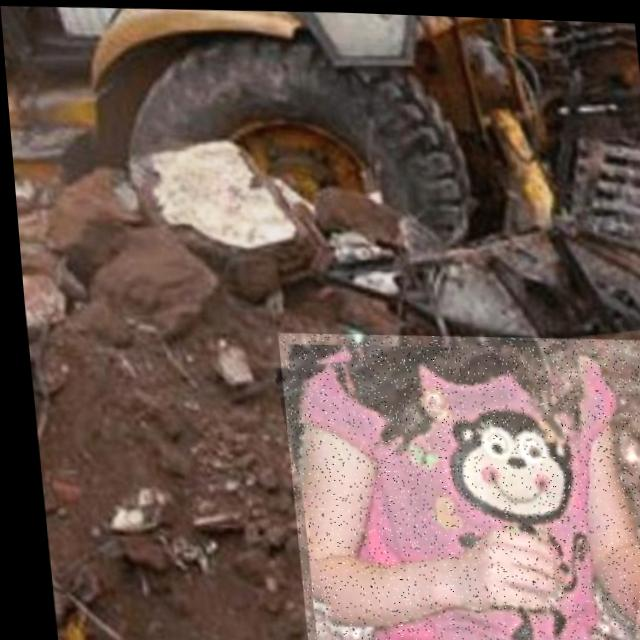Person in Rubble: (271, 323, 640, 640)
